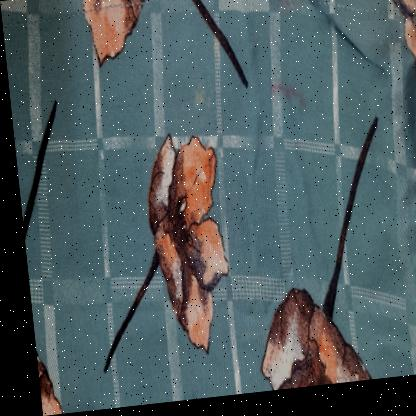spot: (262, 79, 312, 139), (185, 70, 215, 123), (265, 0, 299, 35)
